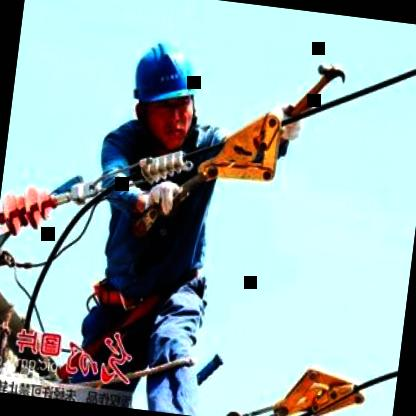helmet: (120, 29, 210, 155)
